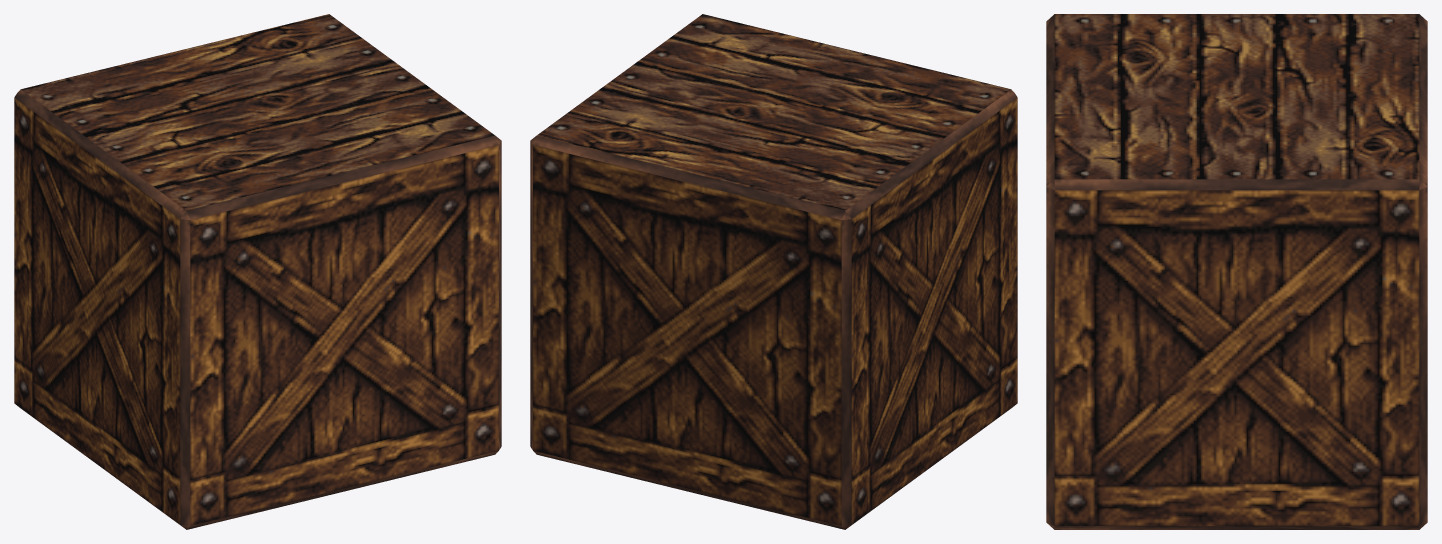
Rendered from Caixote.glb.
The picture shows the model from 3 angles, left to right: view 1: azimuth 30°, elevation 25°; view 2: azimuth 150°, elevation 25°; view 3: azimuth 270°, elevation 25°; orthographic projection. The views are drawn at different scales.
Parts seen in each view (by area): view 1: Painéis, Chanfros; view 2: Painéis, Chanfros; view 3: Painéis, Chanfros.
Part boxes in pixels (x1,y1,x2,y2): Painéis: (14,14,498,525); Chanfros: (14,89,501,529); Painéis: (533,14,1017,525); Chanfros: (530,89,1017,529); Painéis: (1054,14,1419,525); Chanfros: (1046,14,1427,529).
Size of the model in its own units: 0.704 by 0.668 by 0.658.
4 materials, 4 textured.
